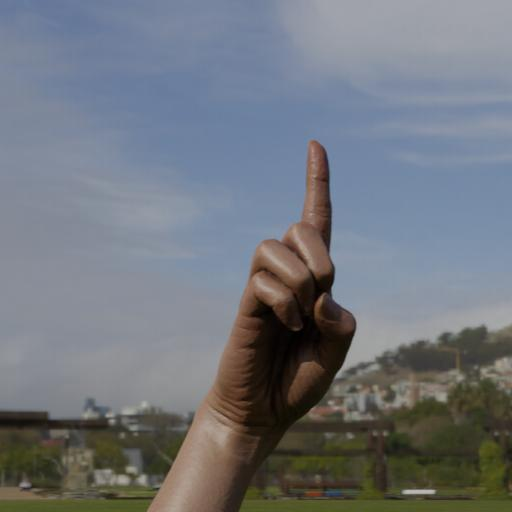D: (188, 130, 367, 445)
